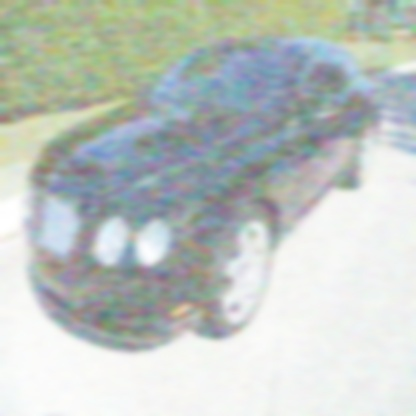Vehicle: (24, 35, 380, 343)
